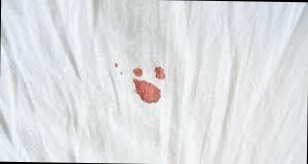blood: (132, 66, 163, 102)
